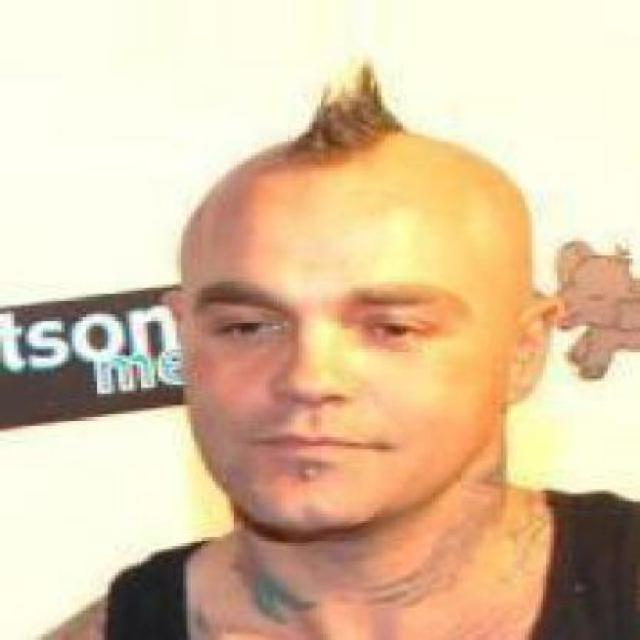closed-mouth: (238, 430, 396, 468)
